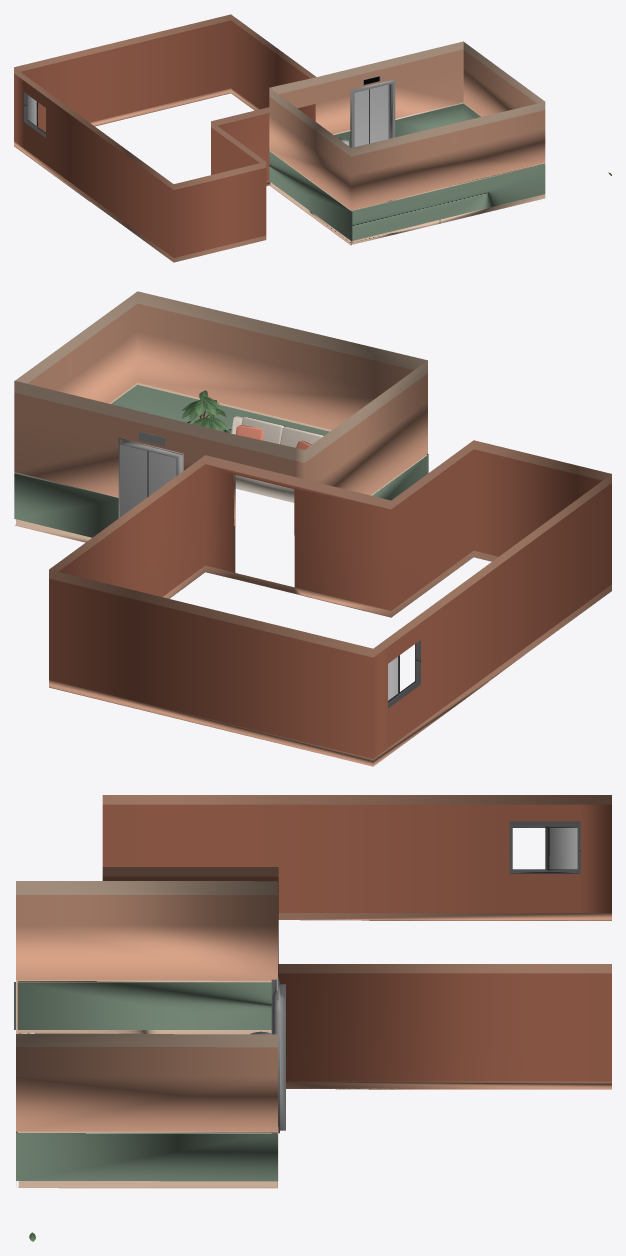
Rendered from redesign3.glb.
3 renders of one model, top to bottom at view 1: azimuth 30°, elevation 25°; view 2: azimuth 150°, elevation 25°; view 3: azimuth 270°, elevation 25°, orthographic. The views are drawn at different scales.
Visible parts, largest first — view 1: Walls.002, Cube.027; view 2: Walls.002, Cube.027, Sofa.001; view 3: Walls.002, Cube.027.
Part boxes in pixels (bbox=[...]): Walls.002: bbox=[14, 14, 545, 262]; Cube.027: bbox=[350, 80, 395, 147]; Walls.002: bbox=[14, 291, 611, 766]; Cube.027: bbox=[118, 438, 183, 517]; Sofa.001: bbox=[231, 416, 294, 502]; Walls.002: bbox=[14, 795, 611, 1188]; Cube.027: bbox=[271, 979, 285, 1133].
Size of the model in its own units: 12.05 by 2.77 by 9.4.
7 materials, 4 textured.
